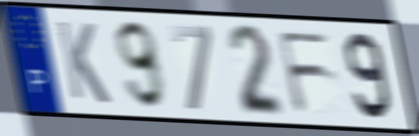2: (226, 20, 287, 119)
7: (167, 23, 214, 112)
9: (112, 19, 169, 112), (343, 30, 394, 122)
F: (274, 29, 334, 116)
K: (53, 17, 113, 107)
